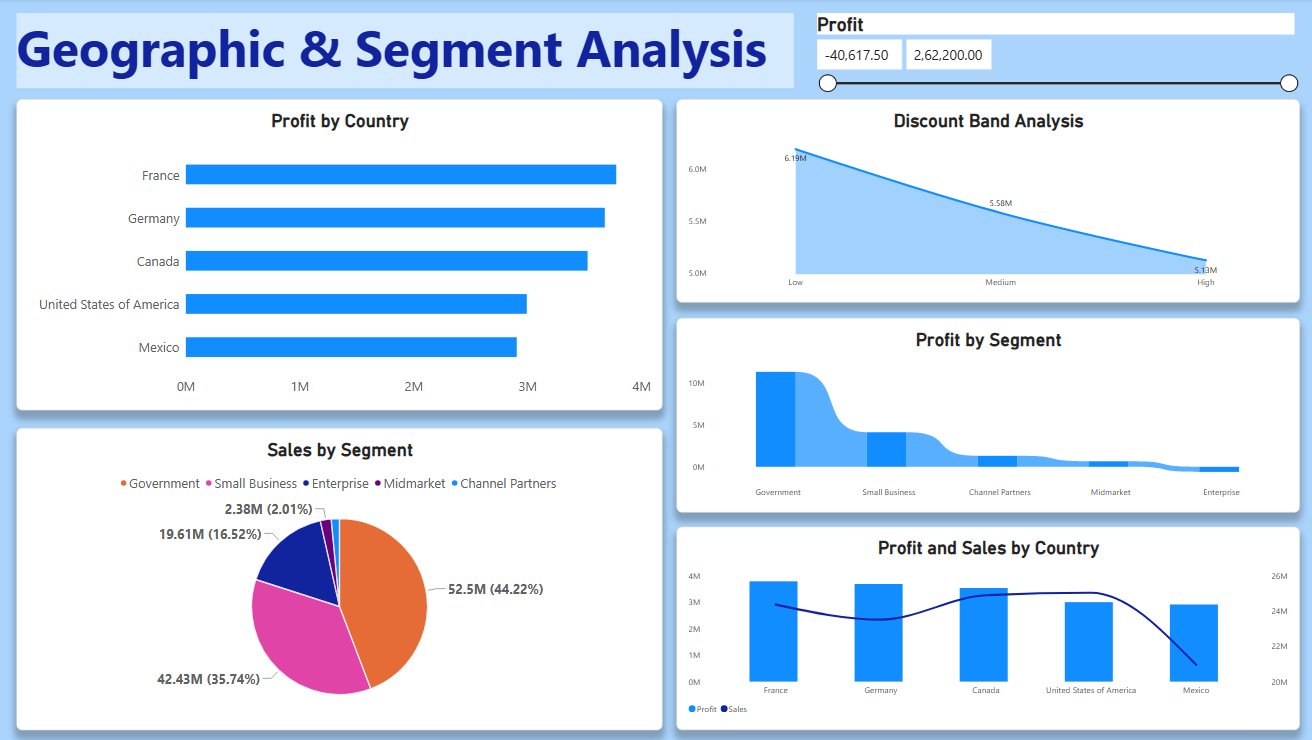

This screenshot's page, from the dashboard's own definition file:
{"tool":"powerbi","page":{"name":"Geographic & Segment Analysis","canvas":[1920,1080],"ordinal":2},"visuals":[{"type":"textbox","box":[25.3,21.7,1125.6,108.6],"z":0},{"type":"clusteredBarChart","title":"Profit by Country","fields":{"Category":["Cleaned_Data.Country"],"Y":["Sum(Cleaned_Data.Profit)"]},"box":[25.3,146.6,935.6,450.6],"z":1},{"type":"pieChart","title":"Sales by Segment","fields":{"Category":["Cleaned_Data.Segment"],"Y":["Sum(Cleaned_Data.Sales)"]},"box":[25.3,622.5,935.6,437.9],"z":2},{"type":"areaChart","title":"Discount Band Analysis","fields":{"Category":["Cleaned_Data.Discount Band"],"Y":["Sum(Cleaned_Data.Profit)"]},"box":[980.4,147.2,902.4,294],"z":3},{"type":"ribbonChart","title":"Profit by Segment","fields":{"Category":["Cleaned_Data.Segment"],"Y":["Sum(Cleaned_Data.Profit)"]},"box":[980.4,463.1,902.4,281.3],"z":4},{"type":"lineStackedColumnComboChart","title":"Profit and Sales by  Country","fields":{"Category":["Cleaned_Data.Country"],"Y":["Sum(Cleaned_Data.Profit)"],"Y2":["Sum(Cleaned_Data.Sales)"]},"box":[980.4,766.1,902.4,294],"z":5},{"type":"slicer","fields":{"Values":["Cleaned_Data.Profit"]},"box":[1176.3,21.7,707.6,273.3],"z":6}]}

Visuals, with their boxes in screenshot pixels (x1, y1, x2, y2), scaled from the page's 1920x1080 canvas onto the 1312x740 screenshot:
textbox: [17, 15, 786, 89]
"Profit by Country" clusteredBarChart: [17, 100, 657, 409]
"Sales by Segment" pieChart: [17, 427, 657, 727]
"Discount Band Analysis" areaChart: [670, 101, 1287, 302]
"Profit by Segment" ribbonChart: [670, 317, 1287, 510]
"Profit and Sales by  Country" lineStackedColumnComboChart: [670, 525, 1287, 726]
slicer - Cleaned_Data.Profit: [804, 15, 1287, 202]
